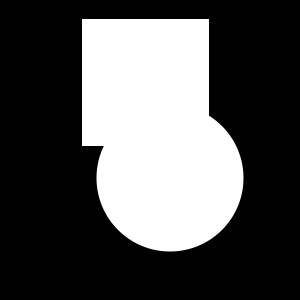circle: (82, 19, 209, 146)
rectangle: (96, 105, 244, 252)
